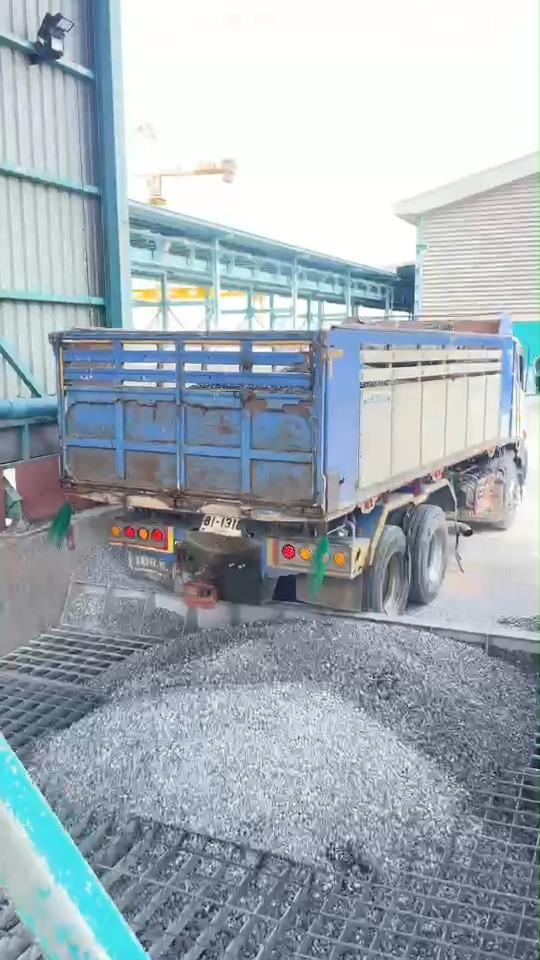gravel: (33, 619, 535, 868), (34, 684, 460, 868), (96, 619, 536, 789), (60, 546, 186, 639), (498, 615, 539, 632), (460, 821, 463, 827)
